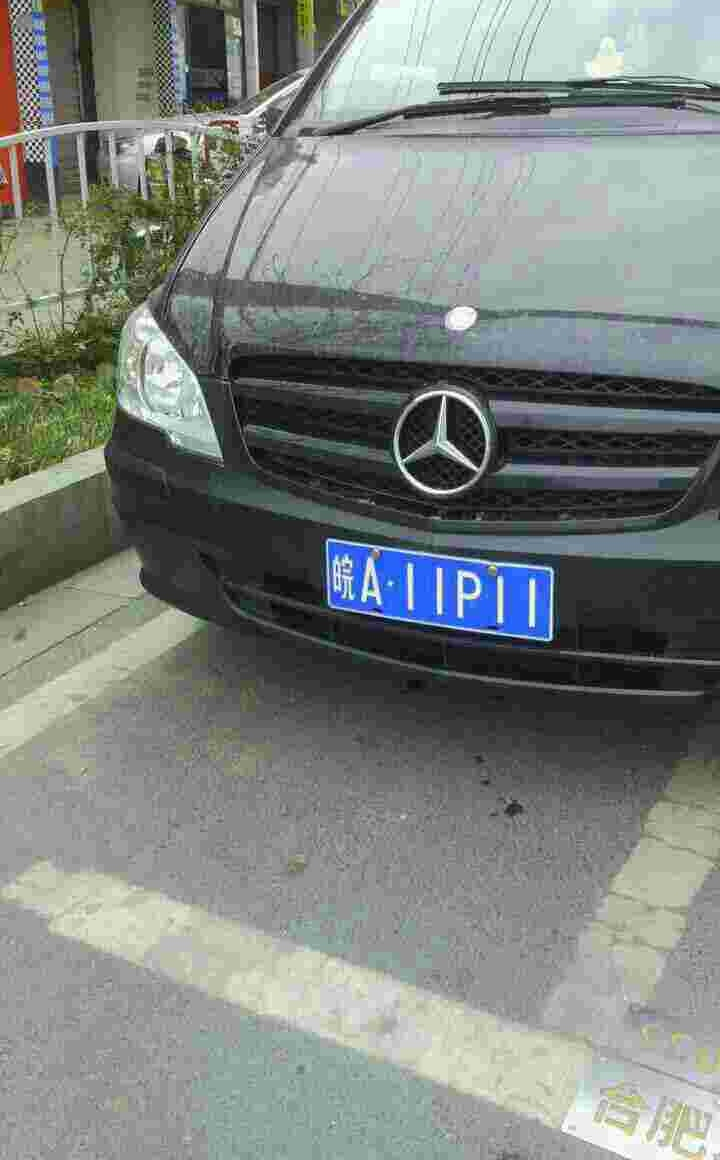plate: (323, 536, 555, 645)
